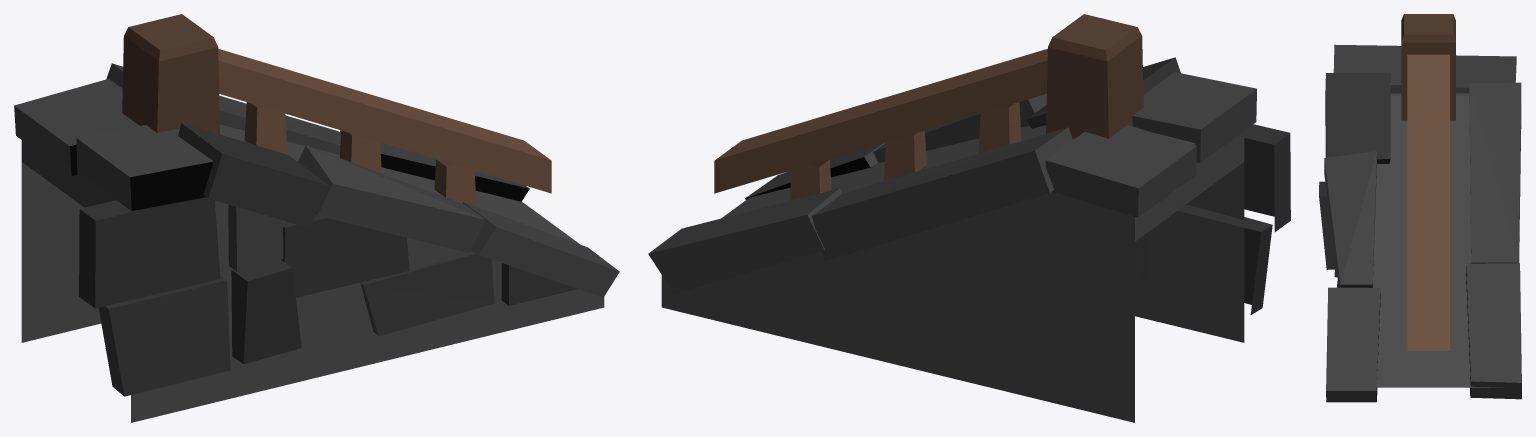
File: Stairs_RailingUp_End.fbx
The picture shows the model from 3 angles, left to right: view 1: azimuth 30°, elevation 25°; view 2: azimuth 150°, elevation 25°; view 3: azimuth 270°, elevation 25°; orthographic projection. The views are drawn at different scales.
Visible parts, largest first — view 1: Stairs_RailingUp_End; view 2: Stairs_RailingUp_End; view 3: Stairs_RailingUp_End.
Part boxes in pixels (x1=…): Stairs_RailingUp_End: x1=14, y1=14, x2=619, y2=422; Stairs_RailingUp_End: x1=648, y1=14, x2=1290, y2=422; Stairs_RailingUp_End: x1=1319, y1=14, x2=1521, y2=402.
Size of the model in its own units: 5.3 by 3.17 by 2.29.
